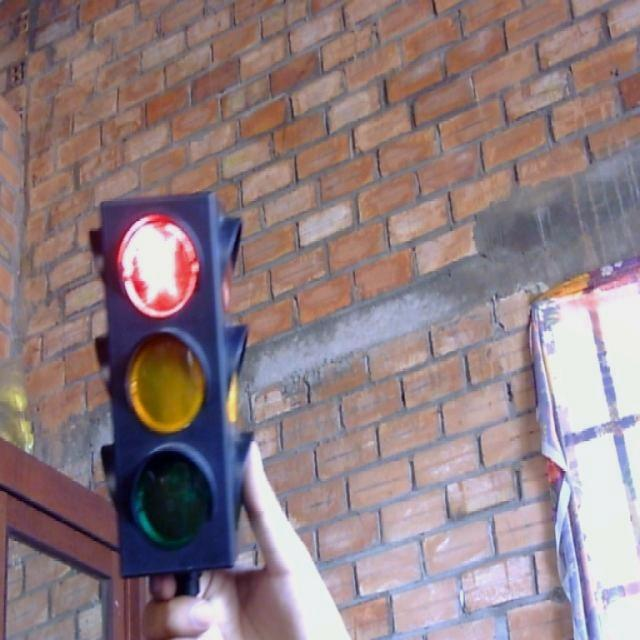Red: (90, 190, 260, 582)
